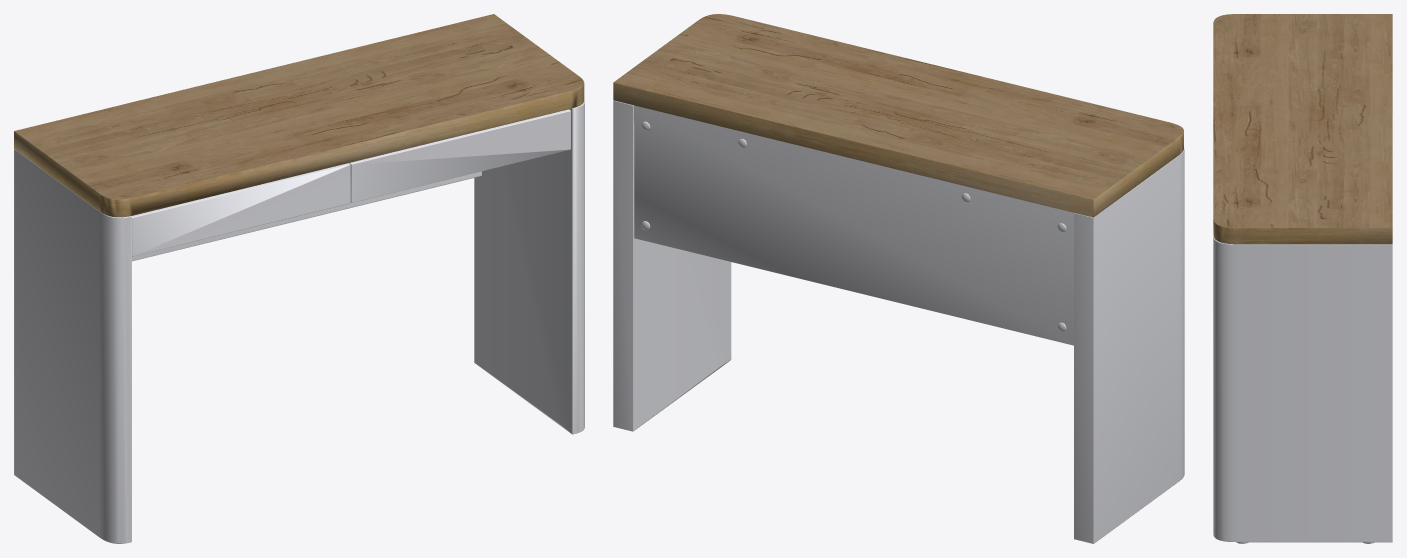
File: B07TP5LTFX.glb
3 views of the same model, side by side, from view 1: azimuth 30°, elevation 25°; view 2: azimuth 150°, elevation 25°; view 3: azimuth 270°, elevation 25° (orthographic). The views are drawn at different scales.
Parts seen in each view (by area): view 1: B07TP5LTFX; view 2: B07TP5LTFX; view 3: B07TP5LTFX.
Boxes of the visible parts, left/top/right/bottom form: B07TP5LTFX: left=14, top=14, right=584, bottom=543; B07TP5LTFX: left=613, top=14, right=1184, bottom=543; B07TP5LTFX: left=1213, top=14, right=1392, bottom=543.
Size of the model in its own units: 1.1 by 0.7599 by 0.39.
Materials: 1 (1 with a texture image).
